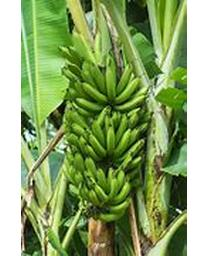banana: (56, 6, 152, 243)
